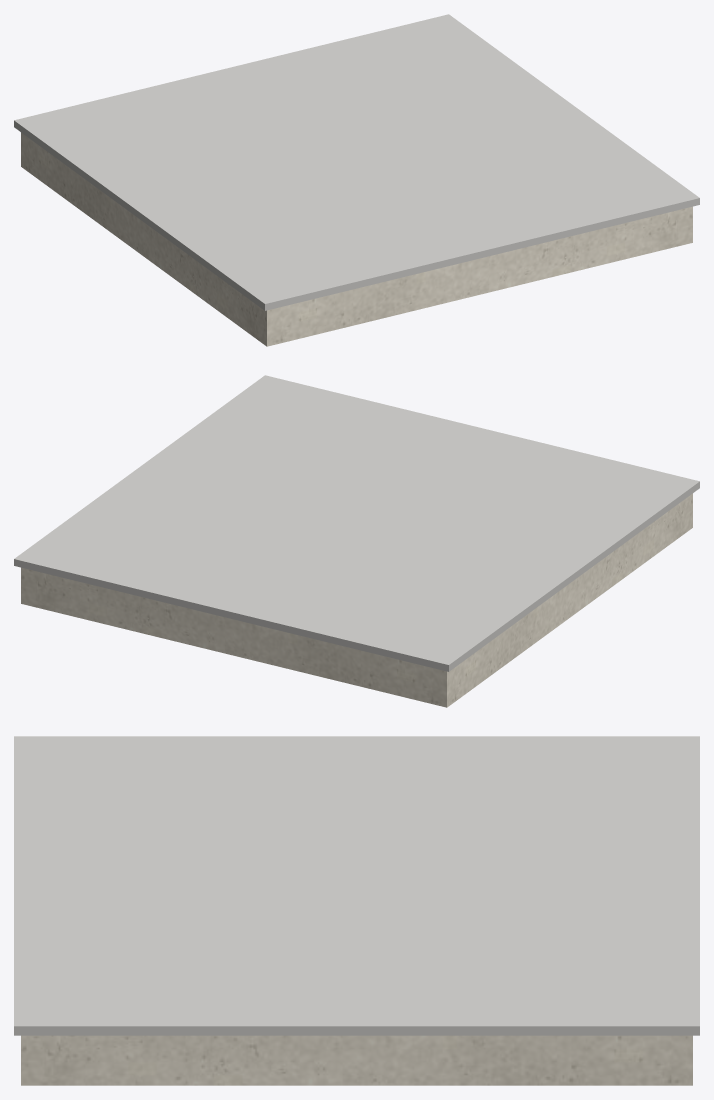
File: floor_tile_concrete.glb
3 views of the same model, one above another, from view 1: azimuth 30°, elevation 25°; view 2: azimuth 150°, elevation 25°; view 3: azimuth 270°, elevation 25° (orthographic). The views are drawn at different scales.
Visible parts, largest first — view 1: floor_tile_concrete_concrete, floor_tile_concrete_plaster; view 2: floor_tile_concrete_concrete, floor_tile_concrete_plaster; view 3: floor_tile_concrete_concrete, floor_tile_concrete_plaster.
Part boxes in pixels (x1,y1,x2,y2): floor_tile_concrete_concrete: [14, 14, 699, 310]; floor_tile_concrete_plaster: [21, 132, 692, 346]; floor_tile_concrete_concrete: [14, 375, 699, 671]; floor_tile_concrete_plaster: [21, 493, 692, 707]; floor_tile_concrete_concrete: [14, 736, 699, 1035]; floor_tile_concrete_plaster: [21, 1035, 692, 1085].
Size of the model in its own units: 2 by 0.2 by 2.
2 materials, 1 textured.
